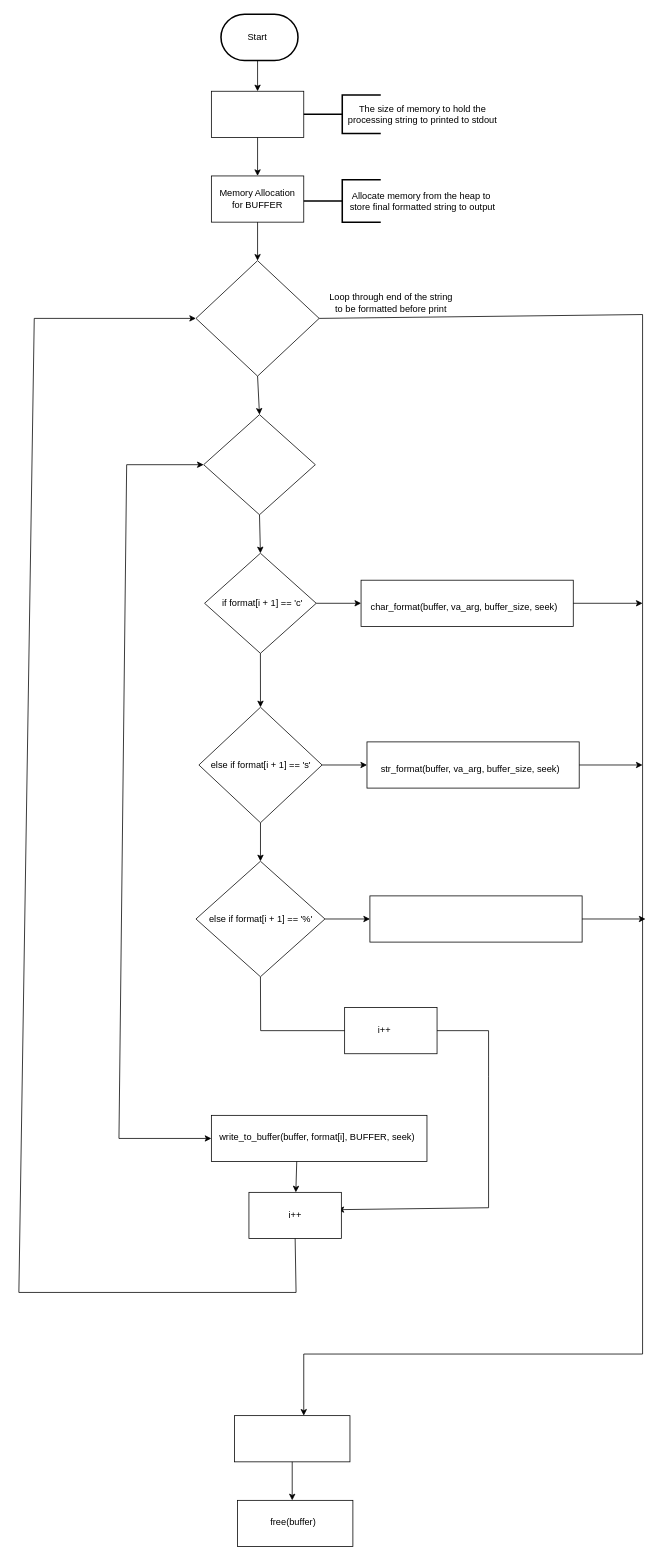
The diagram is 665 pixels wide and 1560 high, and some of its shapes have lost their labels. The centre of each missing label's shape, as x and y in pixels:
"BUFFER 1024" goes at (257,113).
"if format[i] == '%'" goes at (259,464).
"percent_format(buffer, va_arg, buffer_size, seek)" goes at (475,918).
"while format[i] != '\0'" goes at (257,318).
"write(stdout, buffer, seek)" goes at (292,1438).
